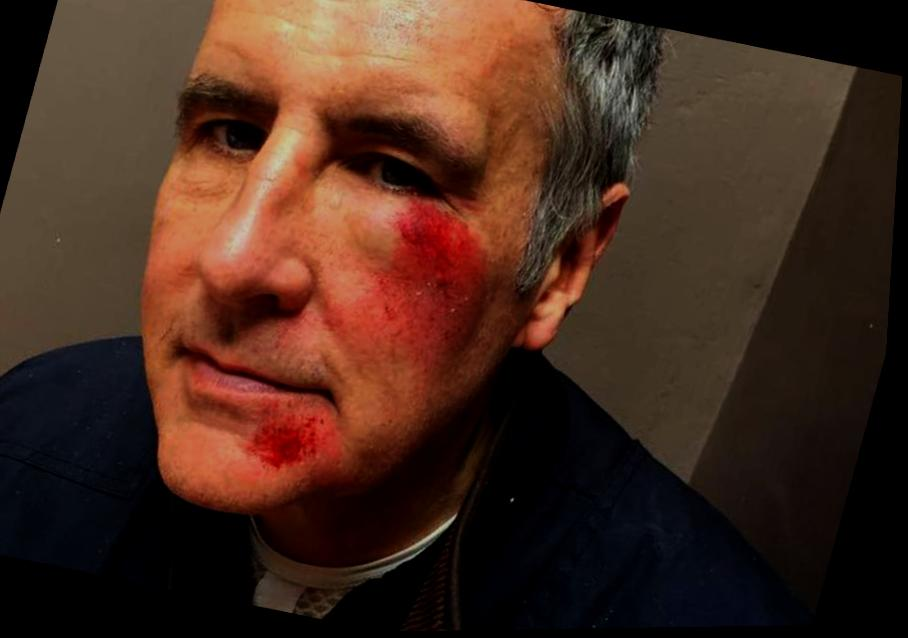Fire: (252, 415, 338, 470)
